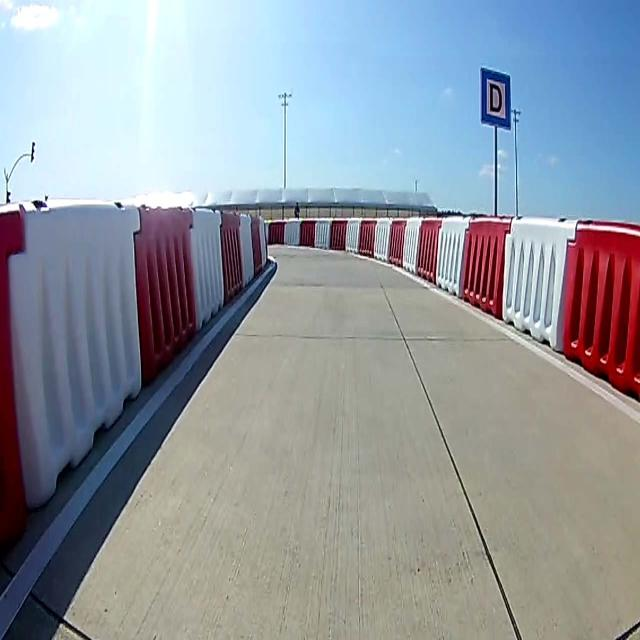durak: (480, 68, 510, 132)
